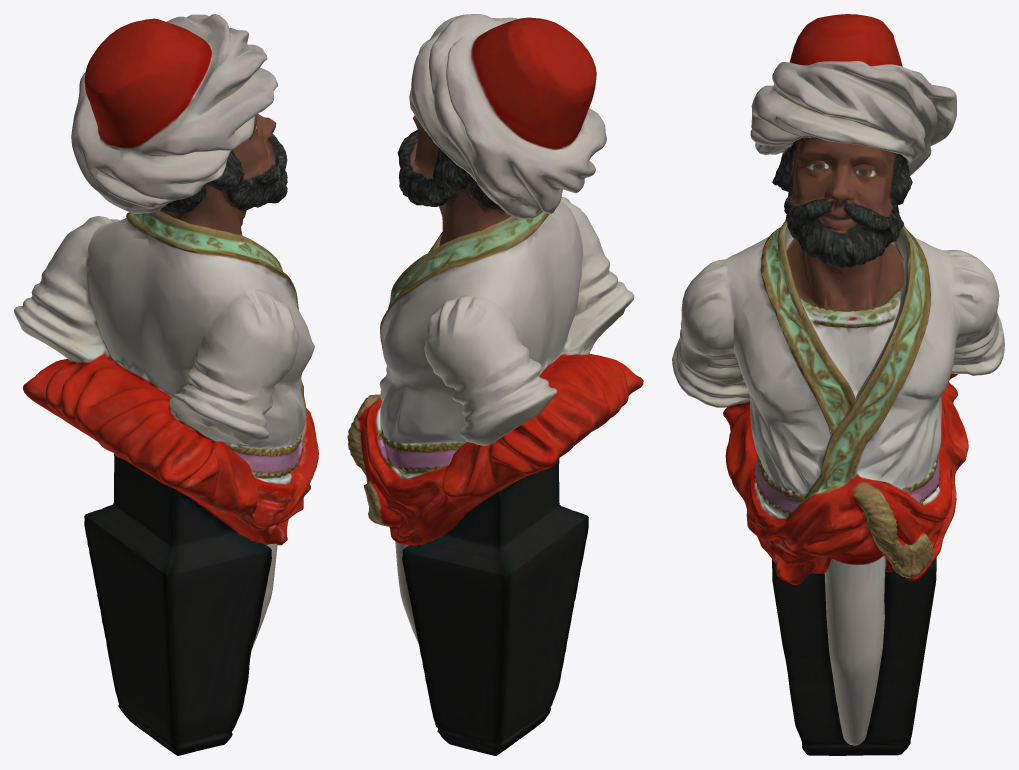
File: sphinx.glb
3 views of the same model, side by side, from view 1: azimuth 30°, elevation 25°; view 2: azimuth 150°, elevation 25°; view 3: azimuth 270°, elevation 25° (orthographic).
Parts seen in each view (by area): view 1: tripo_node_6e9c1e9d-3625-469a-b04d-f3512286df04; view 2: tripo_node_6e9c1e9d-3625-469a-b04d-f3512286df04; view 3: tripo_node_6e9c1e9d-3625-469a-b04d-f3512286df04.
Part boxes in pixels (x1,y1,x2,y2): tripo_node_6e9c1e9d-3625-469a-b04d-f3512286df04: (14,14,318,755); tripo_node_6e9c1e9d-3625-469a-b04d-f3512286df04: (347,14,643,755); tripo_node_6e9c1e9d-3625-469a-b04d-f3512286df04: (672,14,1004,755).
Bounding box in the file's own units: 0.8692 × 2.5 × 1.06.
1 material, 1 textured.
